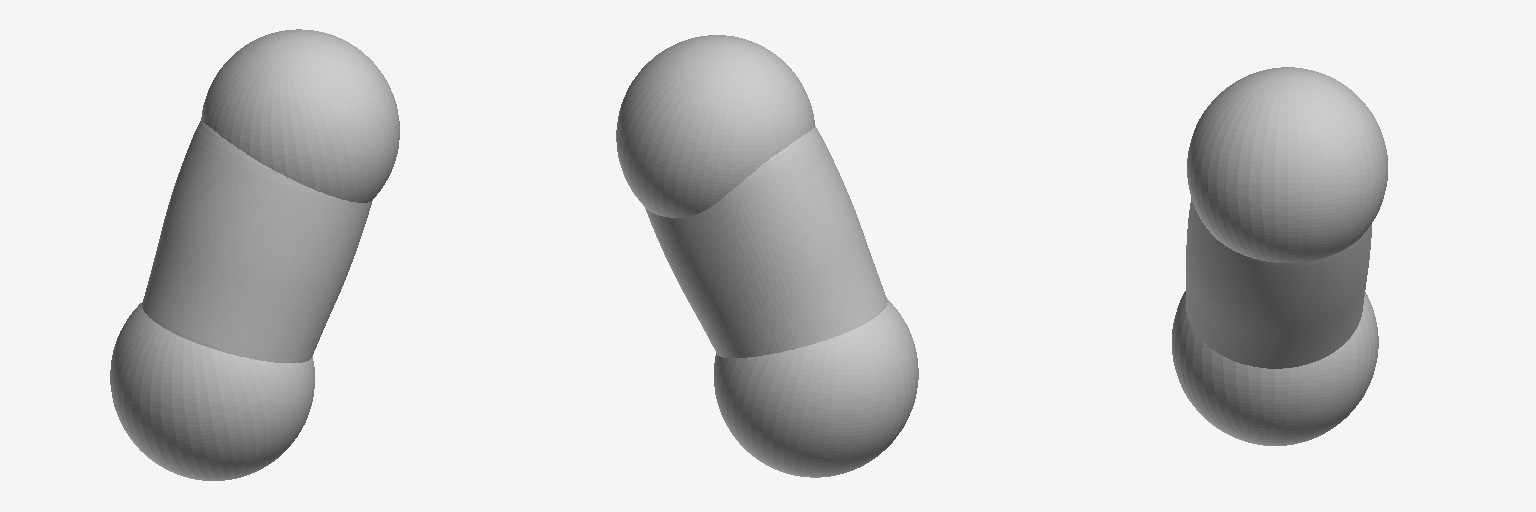
File: uplegR.obj
3 views of the same model, side by side, from view 1: azimuth 30°, elevation 25°; view 2: azimuth 150°, elevation 25°; view 3: azimuth 270°, elevation 25° (orthographic).
Parts seen in each view (by area): view 1: uploads_files_[number redacted]_Guts_man:Mesh polySurface2, uploads_files_[number redacted]_Guts_man:Mesh polySurface5, polySurface19 uploads_files_[number redacted]_Guts_man:Mesh; view 2: uploads_files_[number redacted]_Guts_man:Mesh polySurface2, uploads_files_[number redacted]_Guts_man:Mesh polySurface5, polySurface19 uploads_files_[number redacted]_Guts_man:Mesh; view 3: uploads_files_[number redacted]_Guts_man:Mesh polySurface5, uploads_files_[number redacted]_Guts_man:Mesh polySurface2, polySurface19 uploads_files_[number redacted]_Guts_man:Mesh.
Part boxes in pixels (x1,y1,x2,y2): uploads_files_[number redacted]_Guts_man:Mesh polySurface2: (142, 120, 372, 362); uploads_files_[number redacted]_Guts_man:Mesh polySurface5: (201, 29, 399, 202); polySurface19 uploads_files_[number redacted]_Guts_man:Mesh: (110, 302, 314, 480); uploads_files_[number redacted]_Guts_man:Mesh polySurface2: (645, 126, 887, 358); uploads_files_[number redacted]_Guts_man:Mesh polySurface5: (616, 35, 814, 217); polySurface19 uploads_files_[number redacted]_Guts_man:Mesh: (714, 299, 918, 477); uploads_files_[number redacted]_Guts_man:Mesh polySurface5: (1187, 67, 1387, 262); uploads_files_[number redacted]_Guts_man:Mesh polySurface2: (1186, 197, 1371, 368); polySurface19 uploads_files_[number redacted]_Guts_man:Mesh: (1172, 291, 1378, 445).
Size of the model in its own units: 0.3367 by 0.4859 by 0.2353.